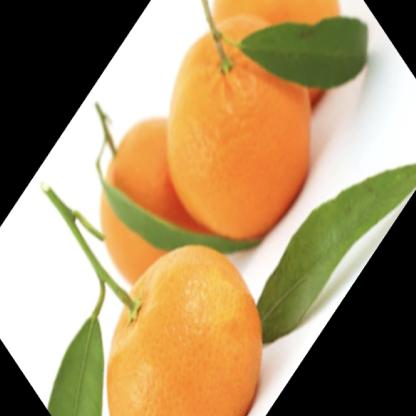fresh: (45, 2, 350, 416)
